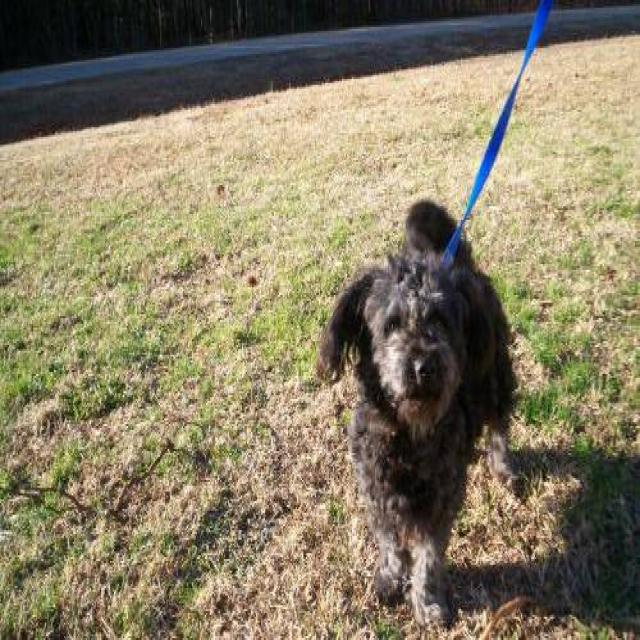dog: (315, 196, 517, 626)
